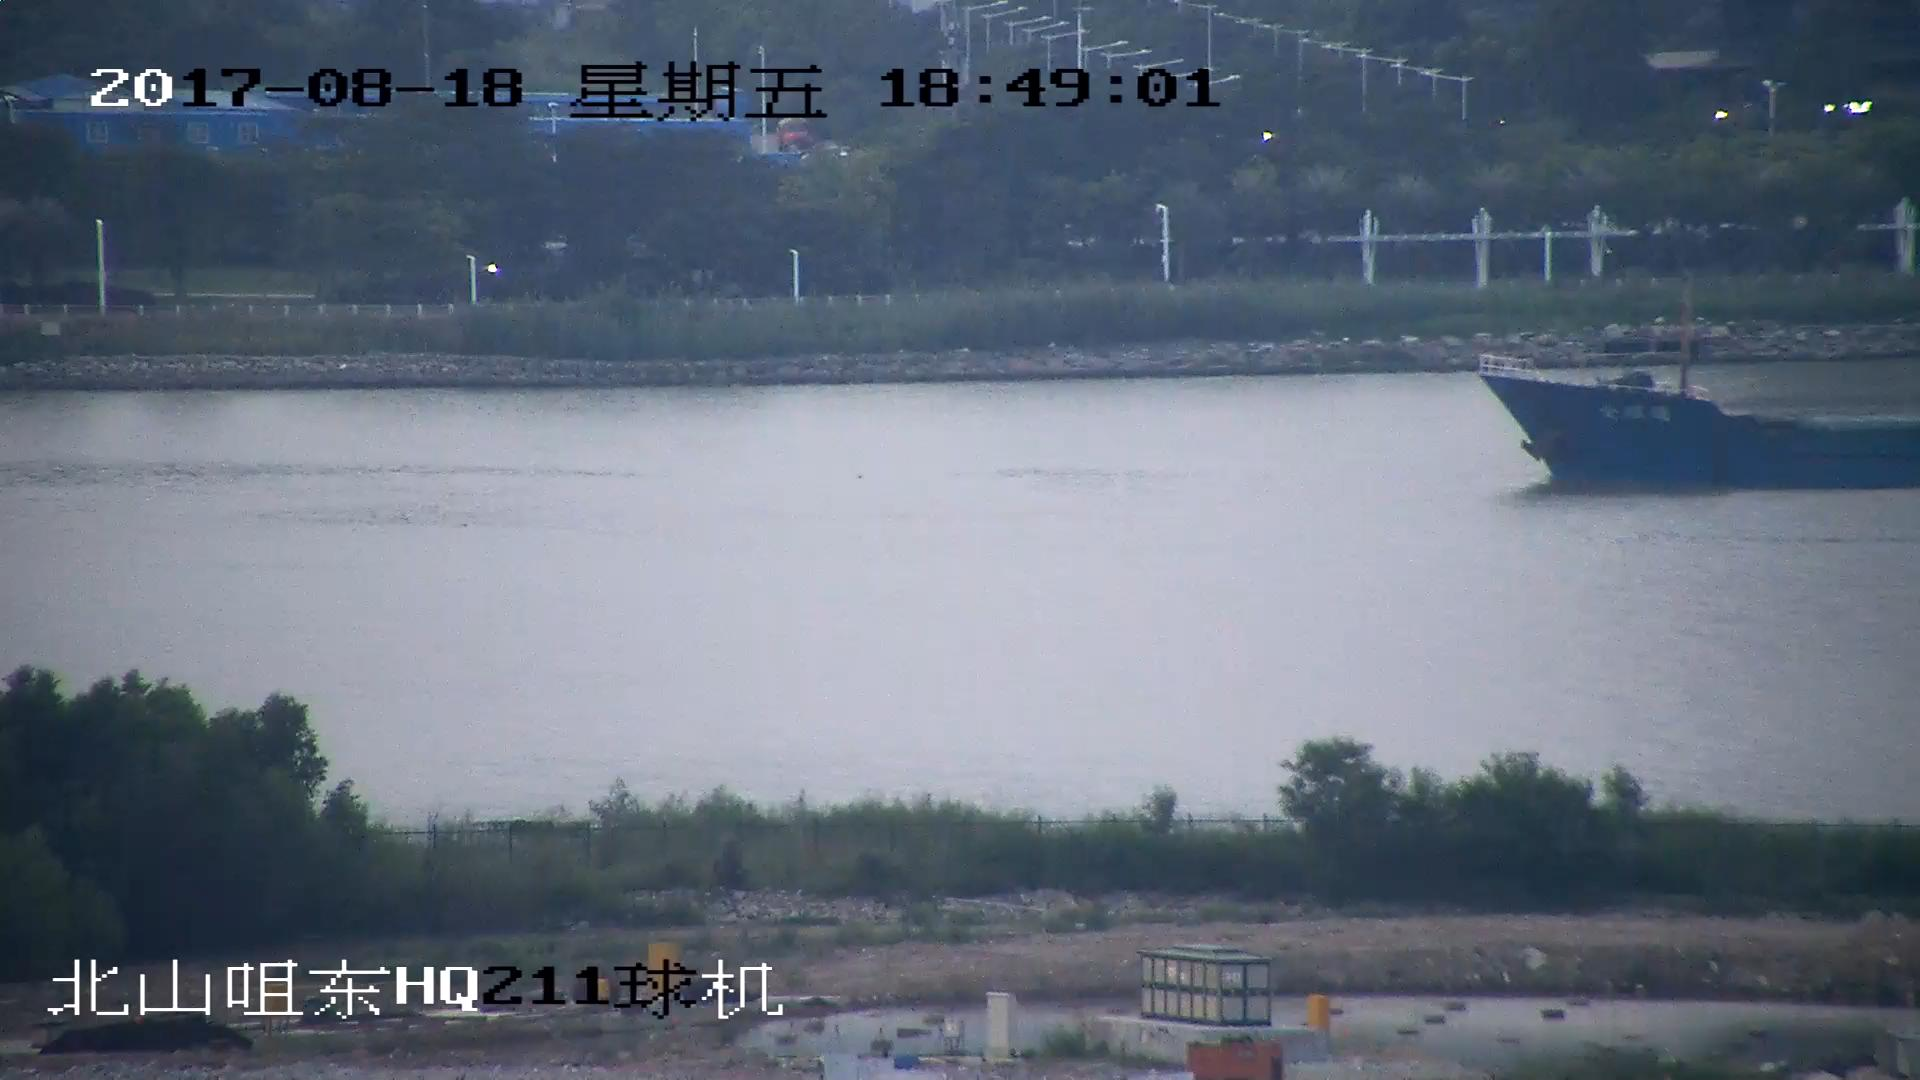general cargo ship: (1479, 351, 1920, 486)
